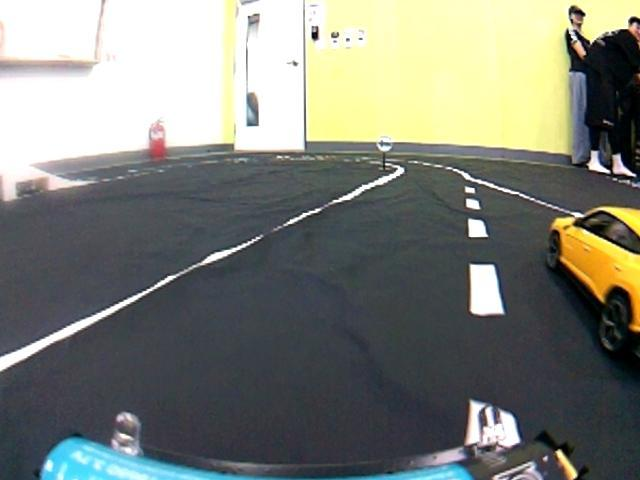car: (533, 200, 640, 371)
left: (15, 206, 553, 480)
